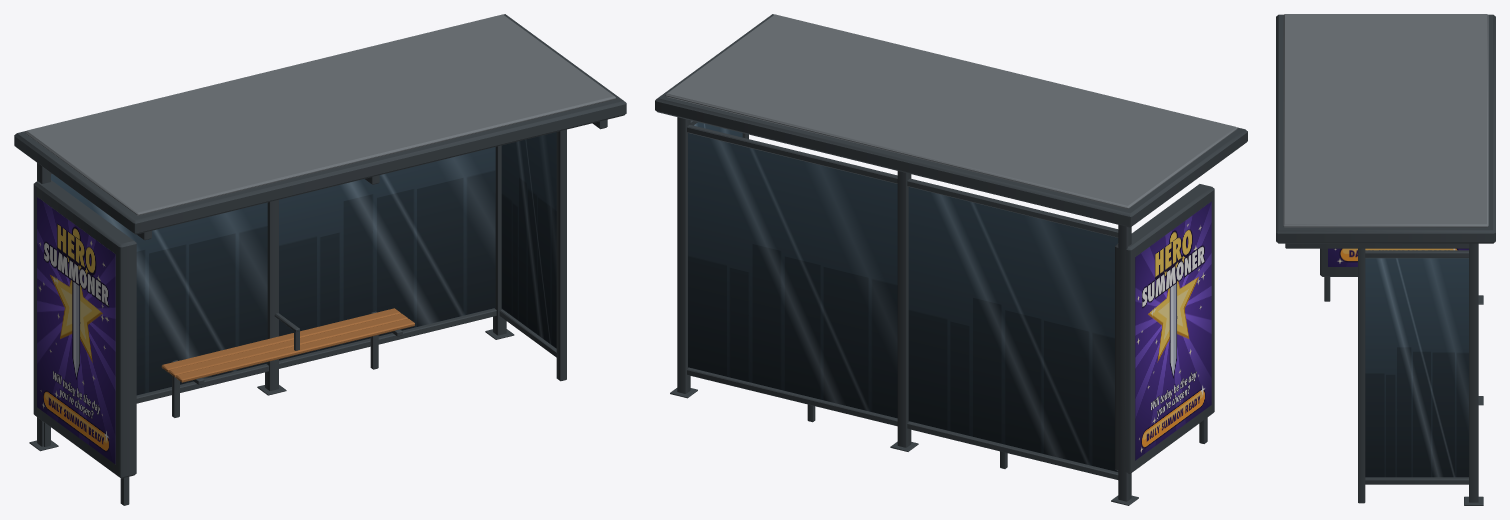
The model's file is BusShelter.fbx.
The picture shows the model from 3 angles, left to right: view 1: azimuth 30°, elevation 25°; view 2: azimuth 150°, elevation 25°; view 3: azimuth 270°, elevation 25°; orthographic projection. The views are drawn at different scales.
Parts seen in each view (by area): view 1: BusShelter_Mesh; view 2: BusShelter_Mesh; view 3: BusShelter_Mesh.
Part boxes in pixels (x1,y1,x2,y2): BusShelter_Mesh: [14, 14, 626, 505]; BusShelter_Mesh: [655, 14, 1247, 505]; BusShelter_Mesh: [1276, 14, 1495, 505].
Bounding box in the file's own units: 4.22 × 2.56 × 1.8.
